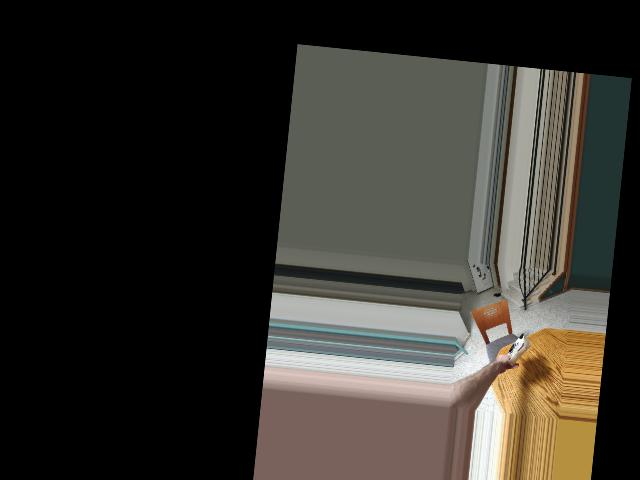cheese: (504, 331, 531, 368)
